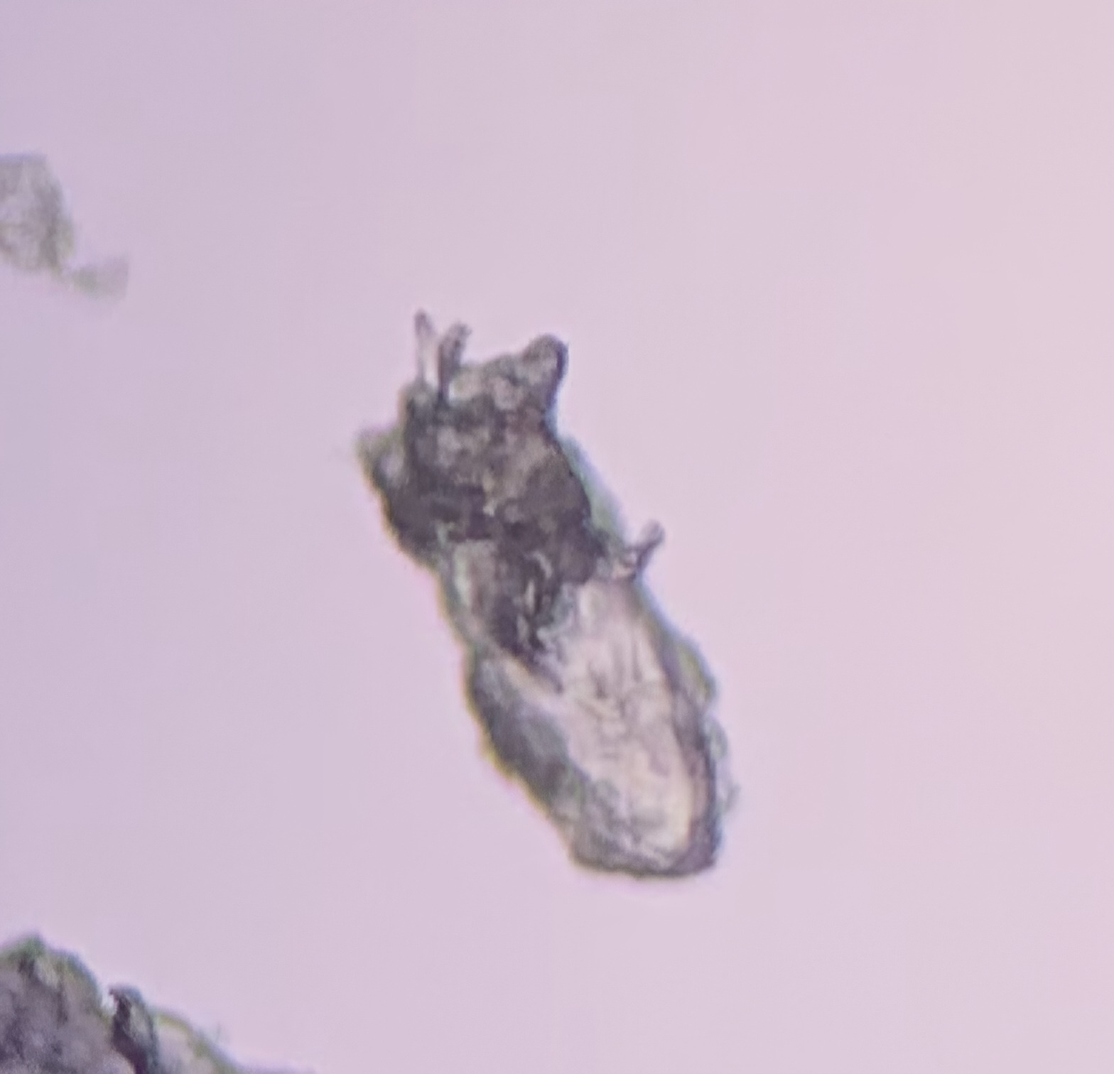microplastic: (355, 308, 746, 884), (1, 928, 313, 1074), (1, 149, 135, 305)
